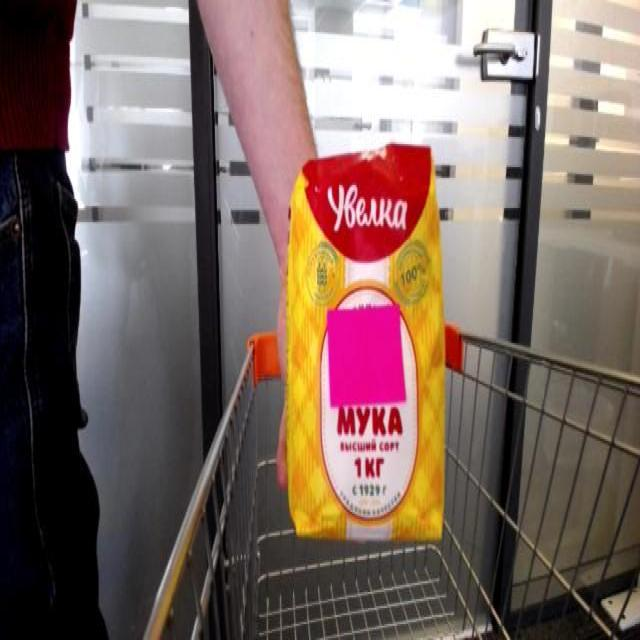Almond Milk: (278, 130, 451, 553)
